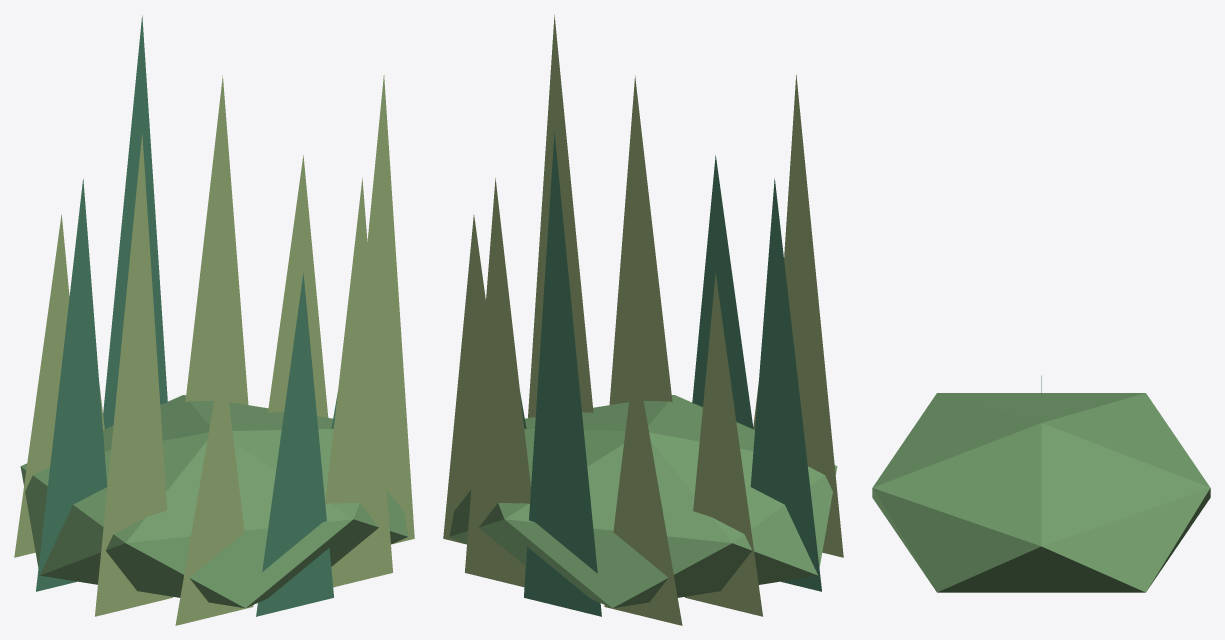
Rendered from SM_Grass_Clump_01.fbx.
3 renders of one model, left to right at view 1: azimuth 30°, elevation 25°; view 2: azimuth 150°, elevation 25°; view 3: azimuth 270°, elevation 25°, orthographic.
Parts seen in each view (by area): view 1: SM_Grass_Clump_01; view 2: SM_Grass_Clump_01; view 3: SM_Grass_Clump_01.
Boxes of the visible parts, left/top/right/bottom form: SM_Grass_Clump_01: left=14, top=15, right=414, bottom=625; SM_Grass_Clump_01: left=443, top=14, right=843, bottom=625; SM_Grass_Clump_01: left=872, top=375, right=1210, bottom=592.
Size of the model in its own units: 0.64 by 0.85 by 0.5274.
